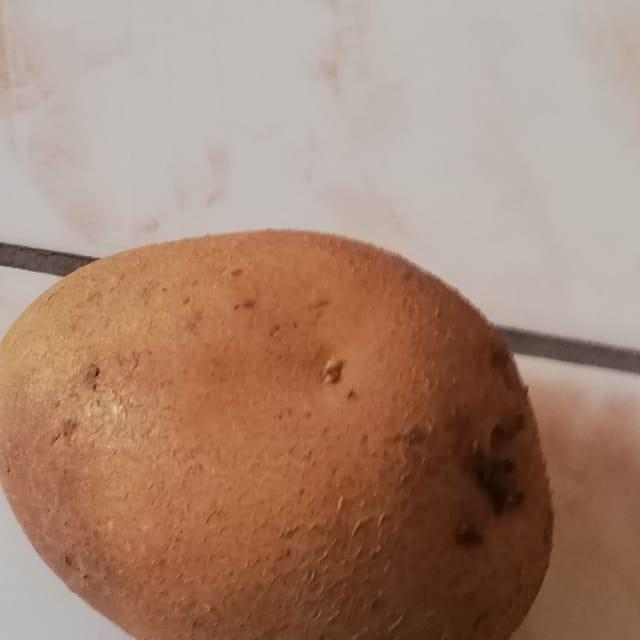potato: (0, 202, 572, 640)
